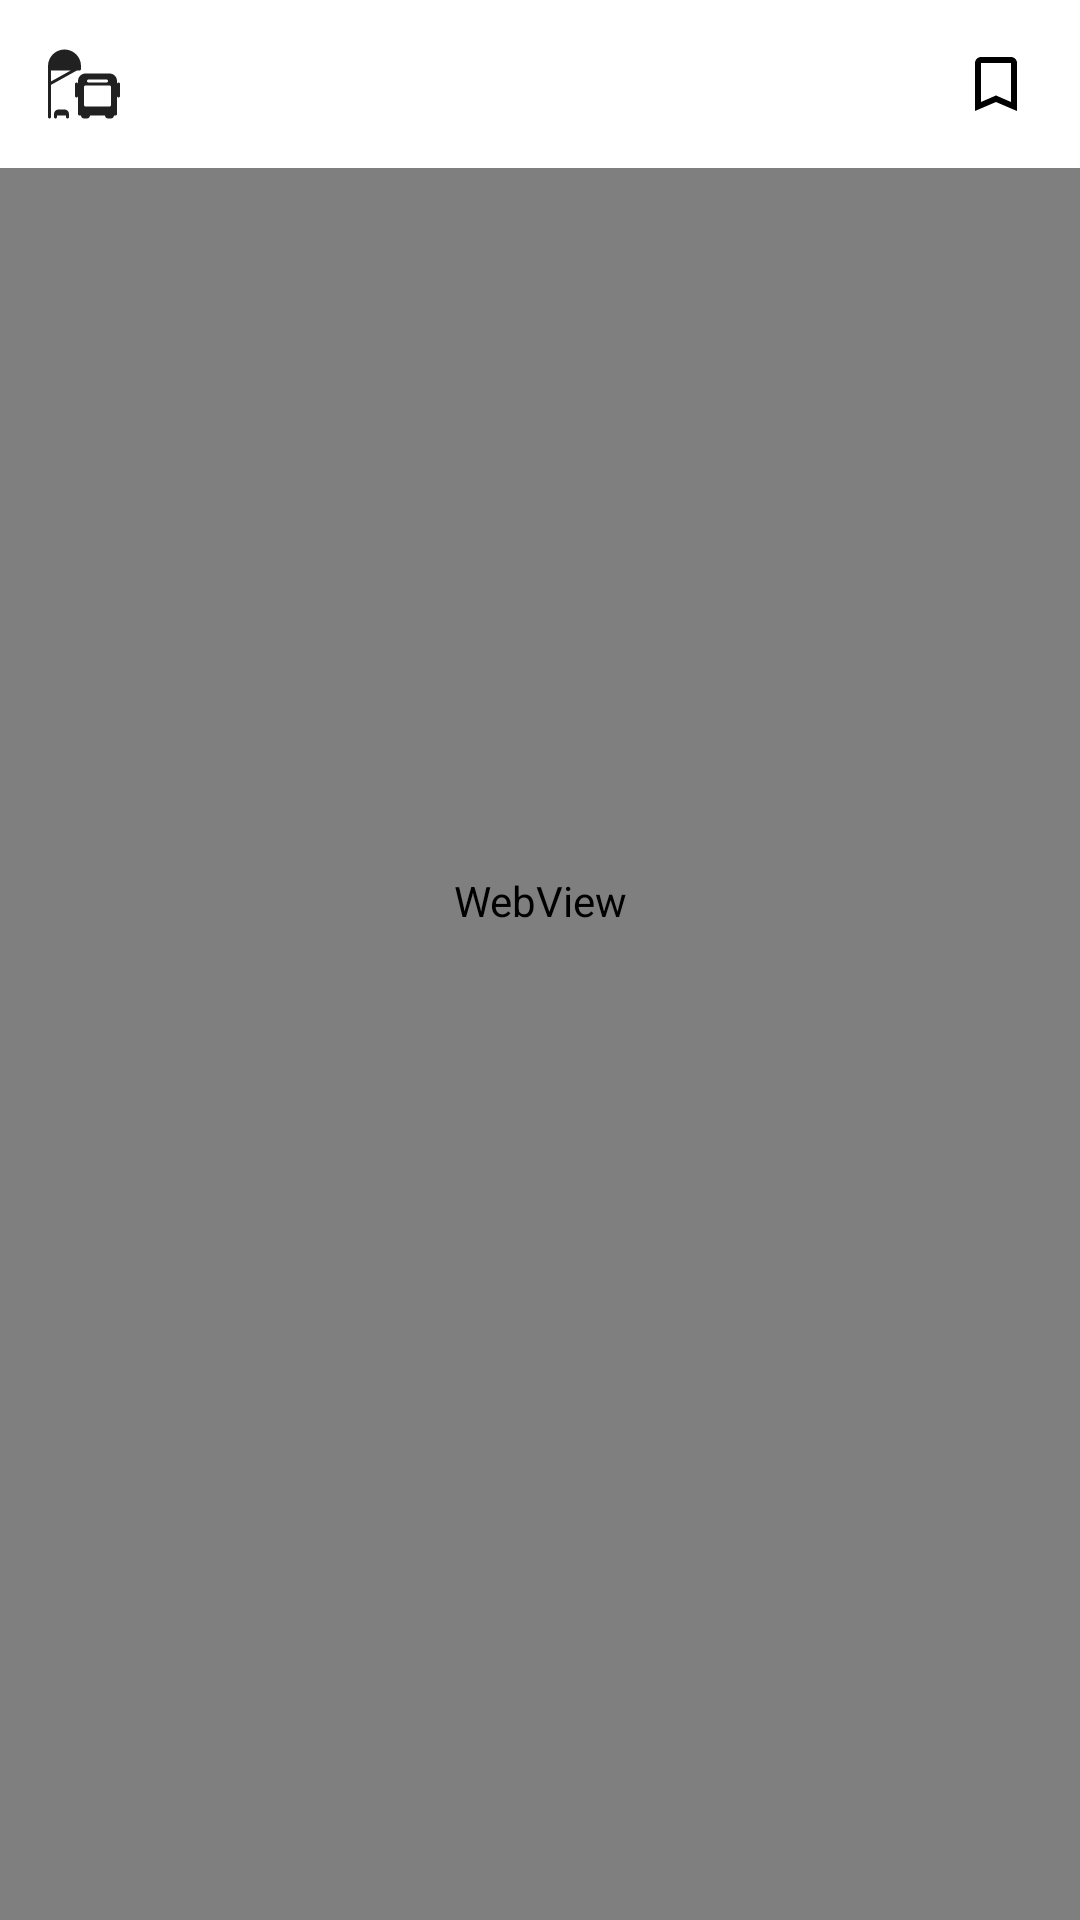

Named icons in this screenshot (1080x1920) and their centers, (x,y):
check box bookmark: (996,84)
stop: (84,84)
